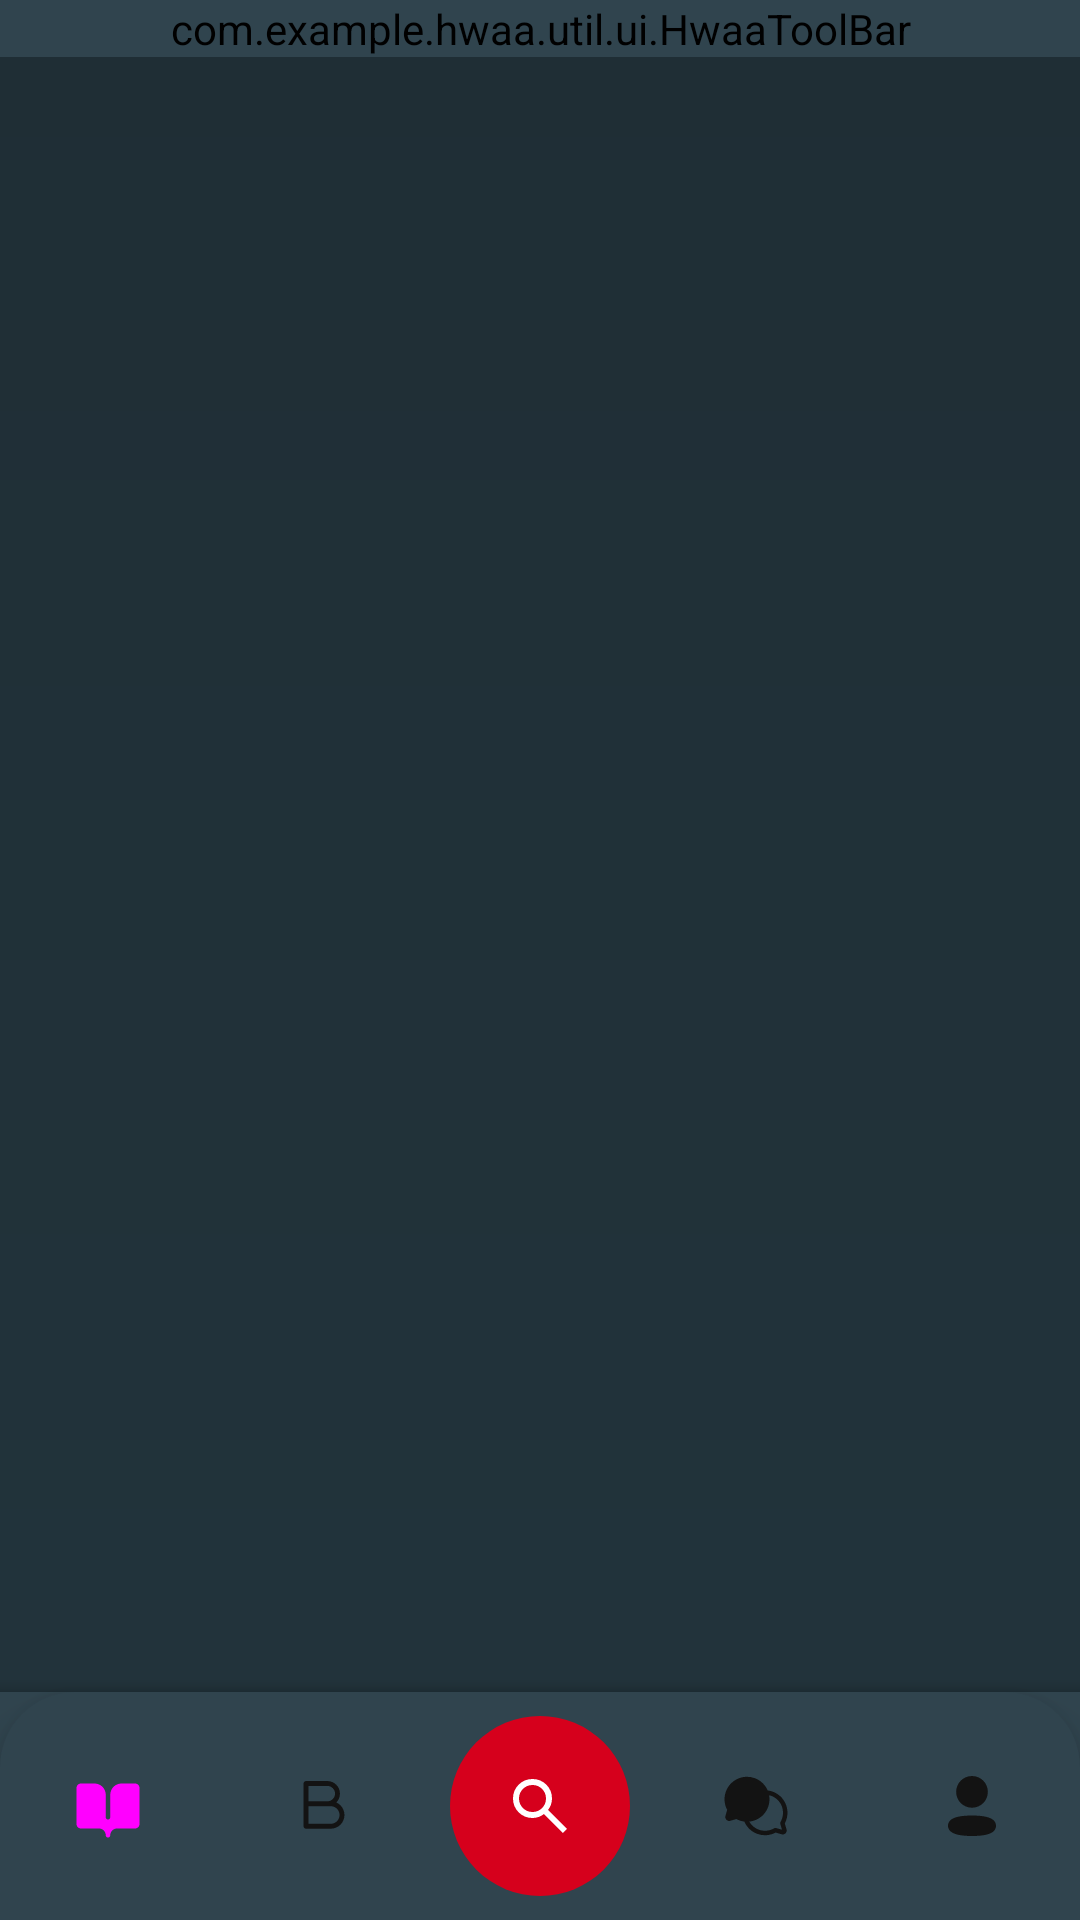

Point at icon controls on the screen. Image size 1080 × 1920, points as (x,y).
search: (540,1806)
